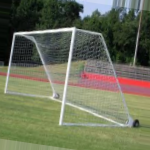goals: (4, 26, 129, 129)
